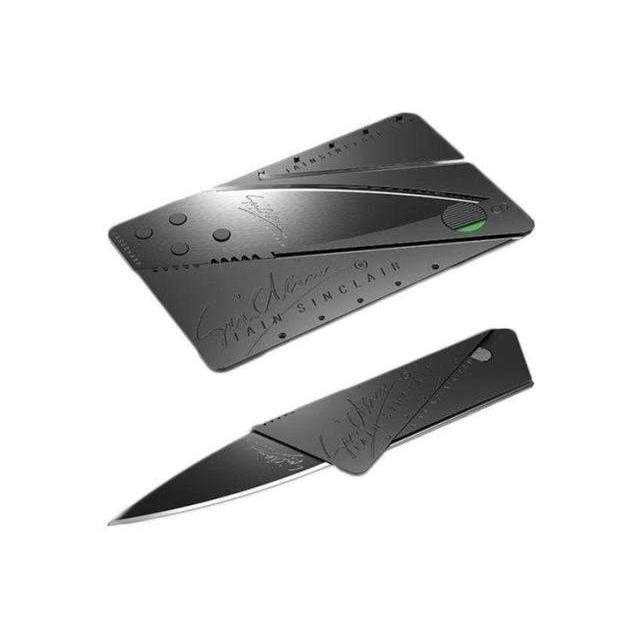Knife: (99, 310, 546, 562)
